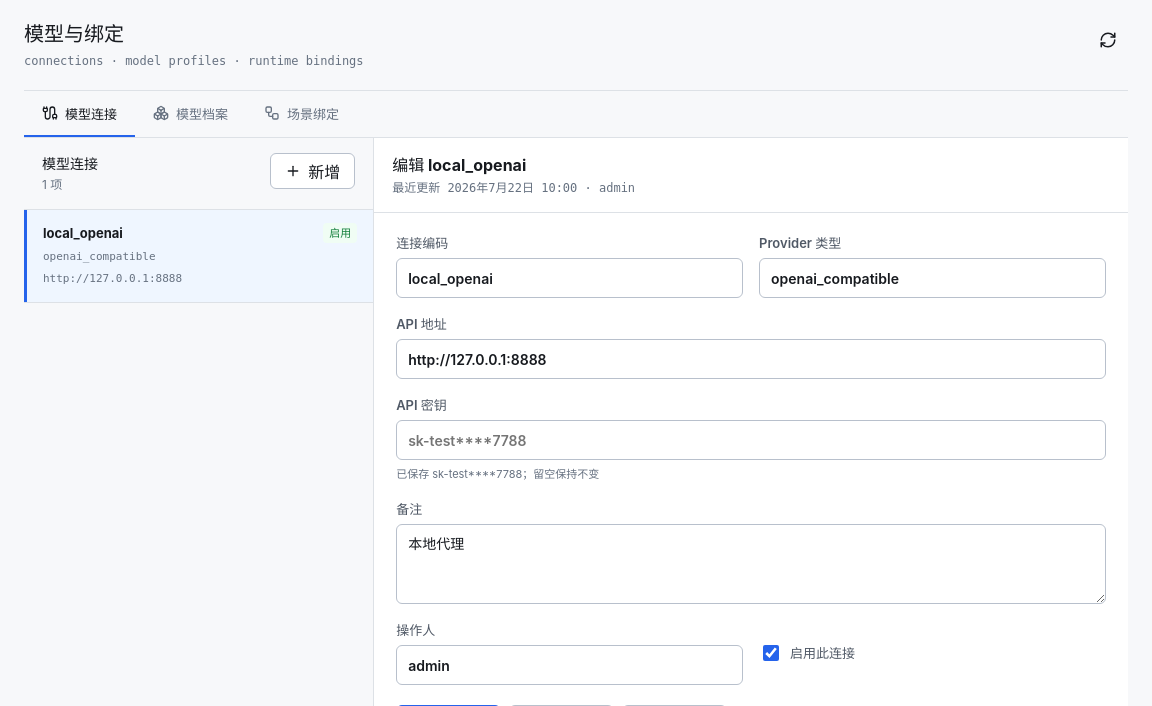
Test: model settings page › requires confirmation before discarding a dirty form or deleting a record
Type " 尚未保存" into the text box labelled "备注".
click(751, 564); type(" 尚未保存")  # box [396,524,1106,604]
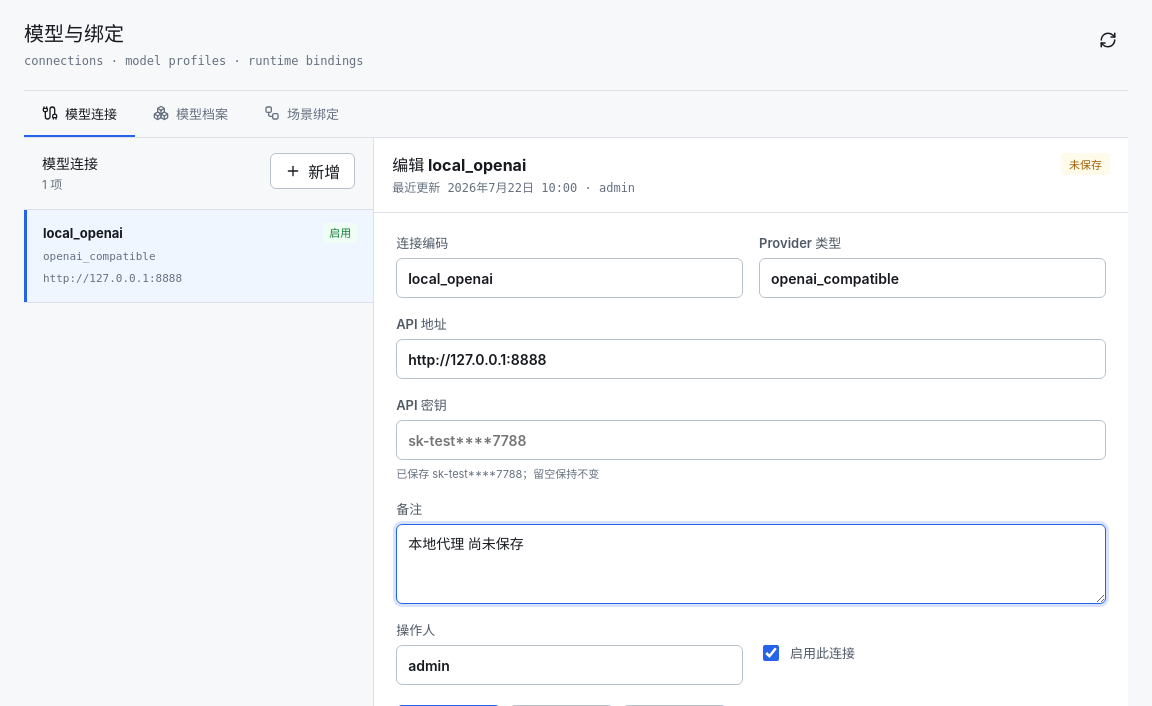
Expected: the text "未保存" is shown, [1061,153,1110,175]
Click the tab "模型档案".
click(190, 114)  # box [135,91,246,137]
(page scrolled)
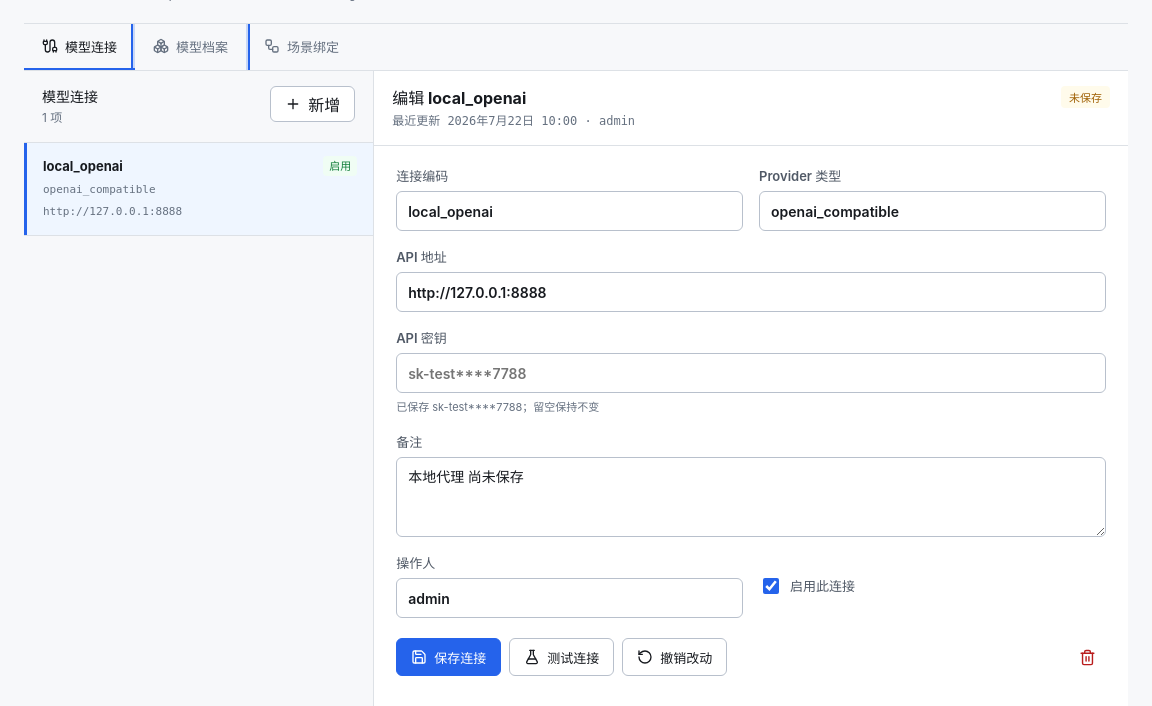
Expected: the heading "编辑 local_openai" is shown, [392,88,526,108]
Click the button named "删除模型连接".
click(1087, 657)  # box [1068,638,1106,676]
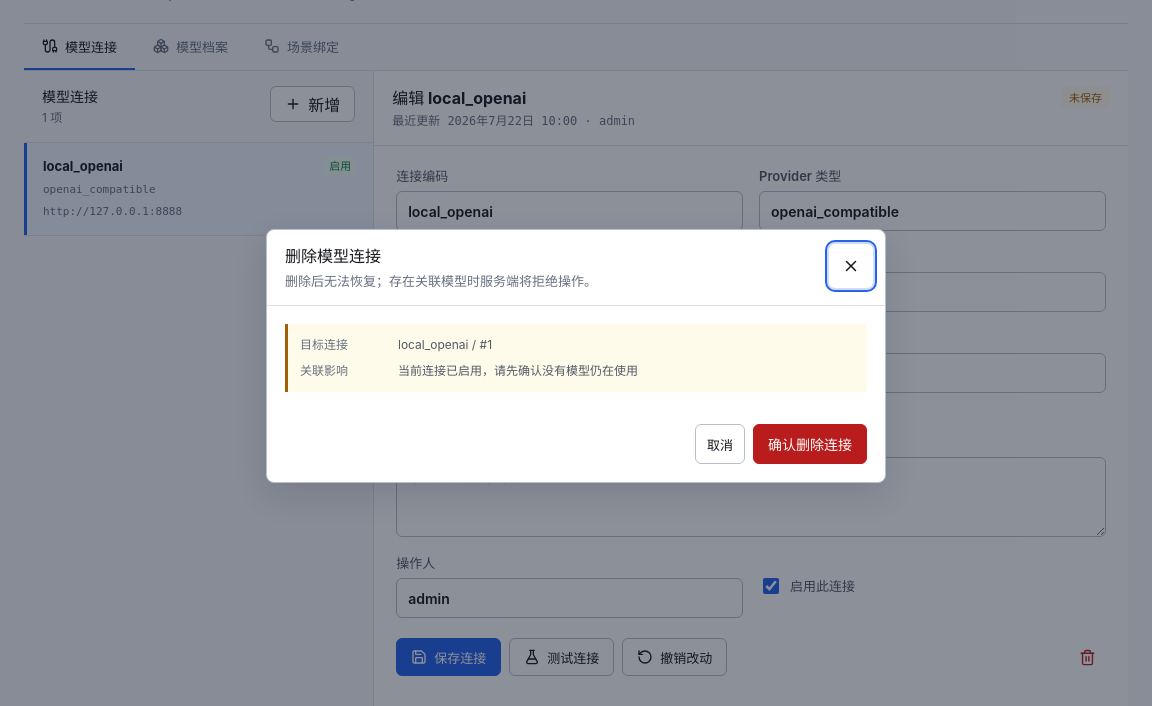
Expected: the text "当前连接已启用，请先确认没有模型仍在使用" is shown, [398,363,638,378]
Expected: the button "确认删除连接" is shown, [753,424,867,464]
